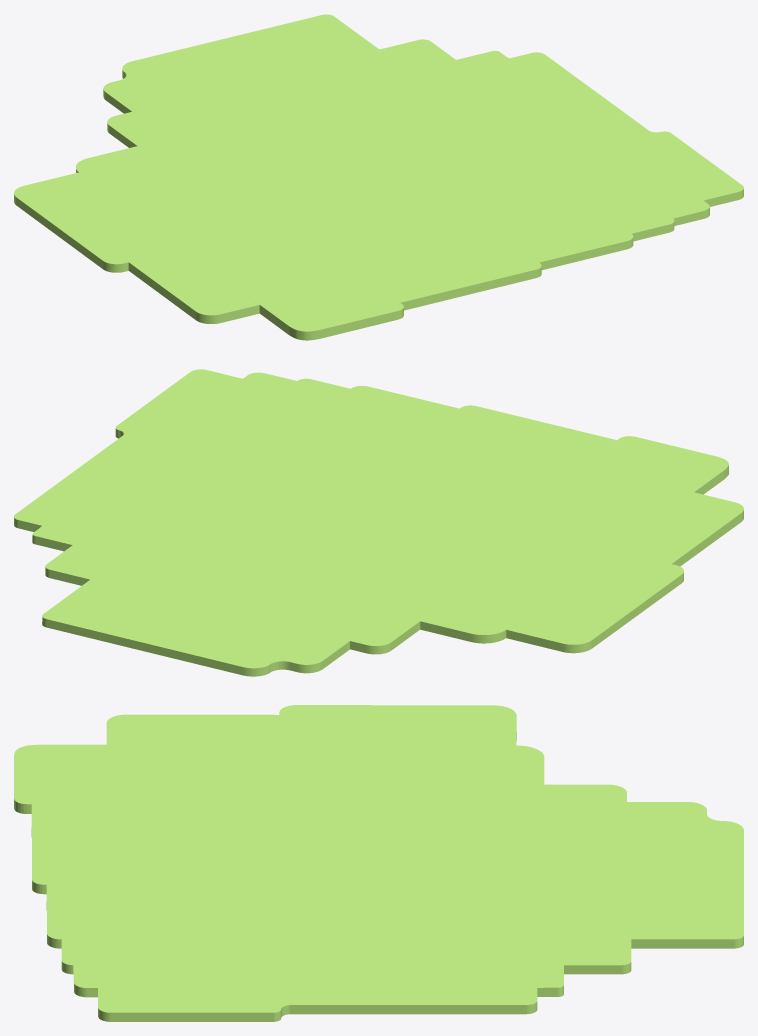
The model's file is ground__noroad.glb.
3 views of the same model, one above another, from view 1: azimuth 30°, elevation 25°; view 2: azimuth 150°, elevation 25°; view 3: azimuth 270°, elevation 25° (orthographic). The views are drawn at different scales.
Parts seen in each view (by area): view 1: Cube; view 2: Cube; view 3: Cube.
Part boxes in pixels (bbox=[...]): Cube: bbox=[14, 14, 743, 340]; Cube: bbox=[14, 369, 743, 676]; Cube: bbox=[14, 705, 743, 1021].
Bounding box in the file's own units: 413 × 6.34 × 414.
